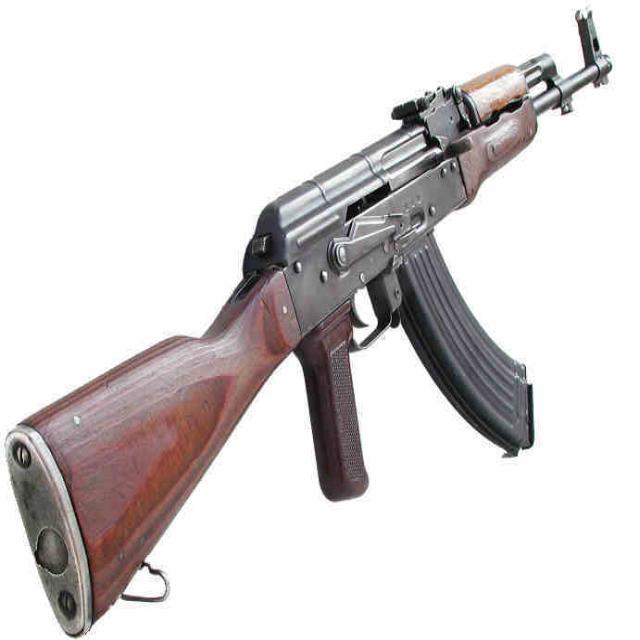Gun: (4, 6, 611, 640)
